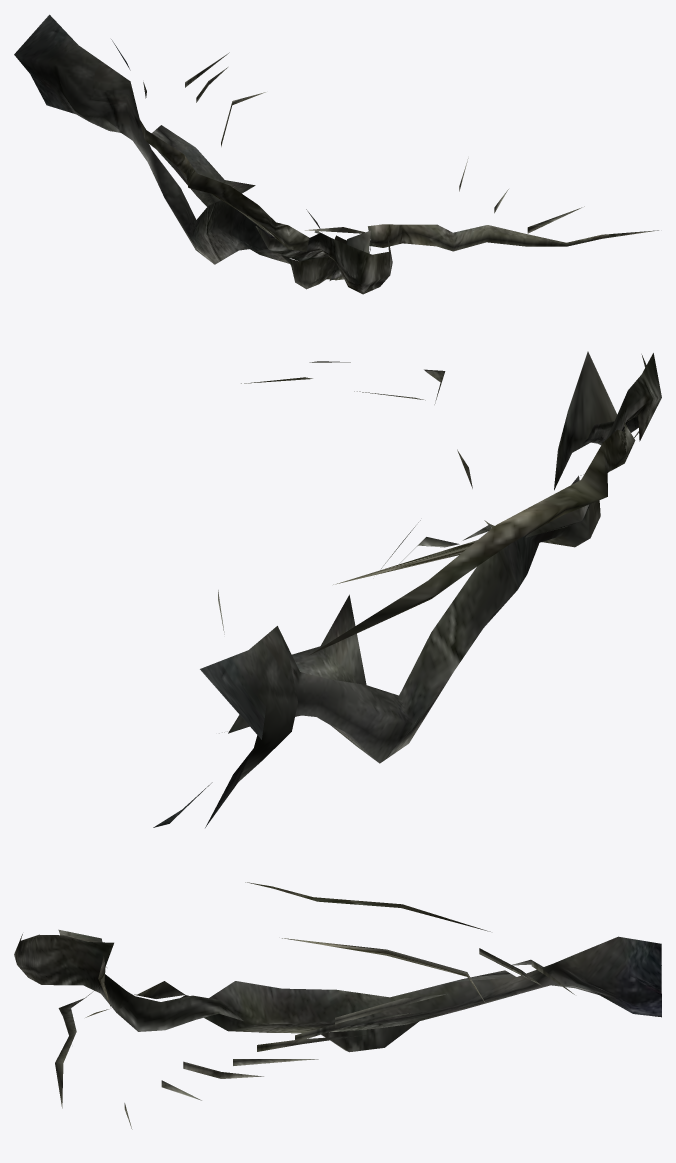
3 renders of one model, top to bottom at view 1: azimuth 30°, elevation 25°; view 2: azimuth 150°, elevation 25°; view 3: azimuth 270°, elevation 25°, orthographic. The views are drawn at different scales.
Visible parts, largest first — view 1: model_Object45; view 2: model_Object45; view 3: model_Object45.
Part boxes in pixels (box(x1,y1,x2,y2)): model_Object45: box(14, 14, 658, 294); model_Object45: box(153, 351, 661, 827); model_Object45: box(14, 882, 661, 1129).
Bounding box in the file's own units: 2.42 × 0.9304 × 3.23.
Materials: 1 (1 with a texture image).
